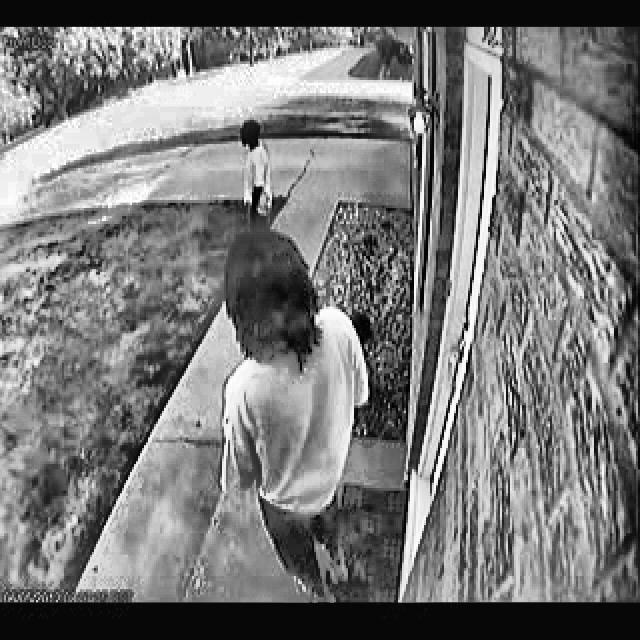burglary: (222, 230, 433, 602), (232, 100, 290, 230)
